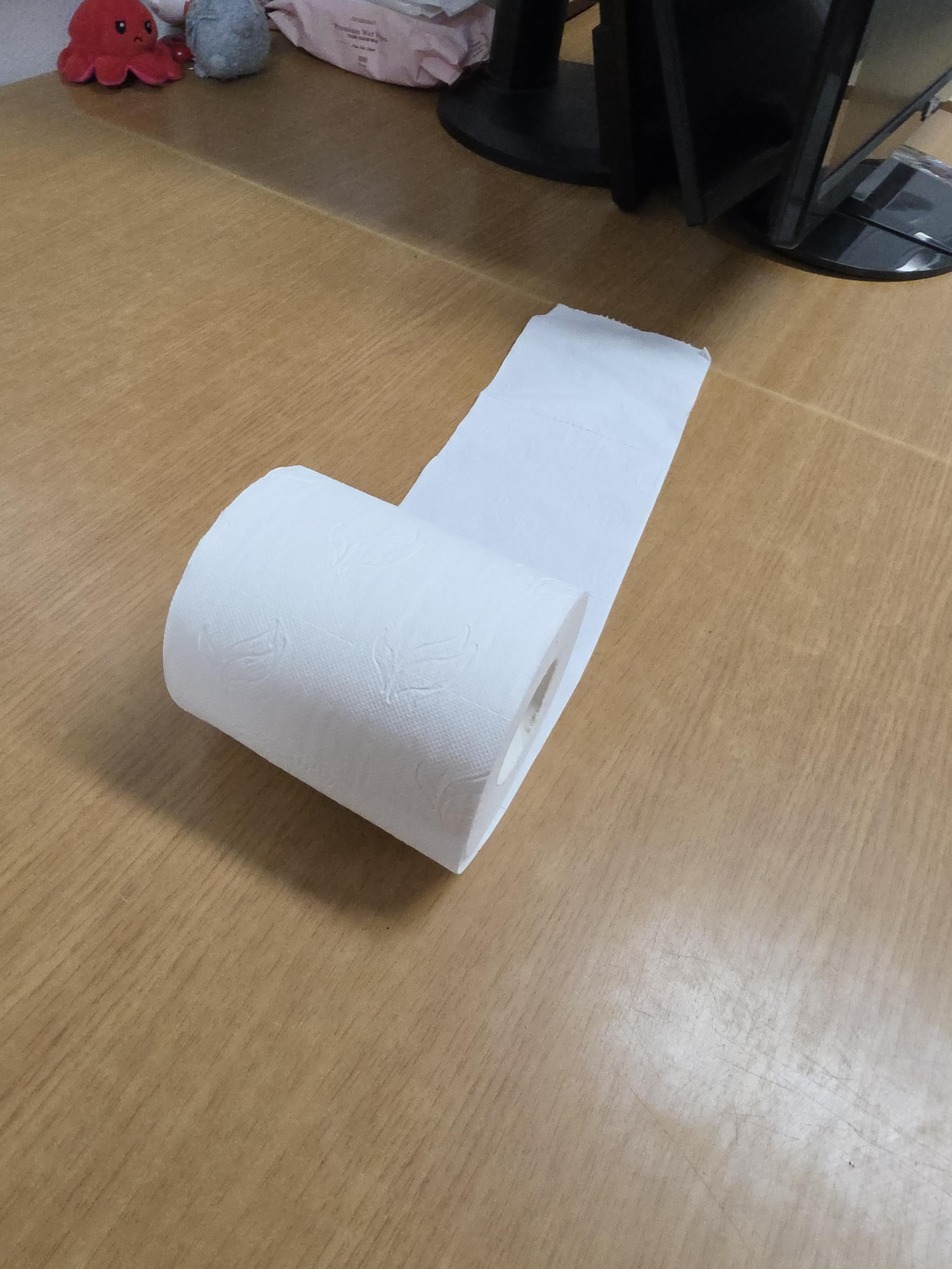tissue: (161, 304, 711, 876)
